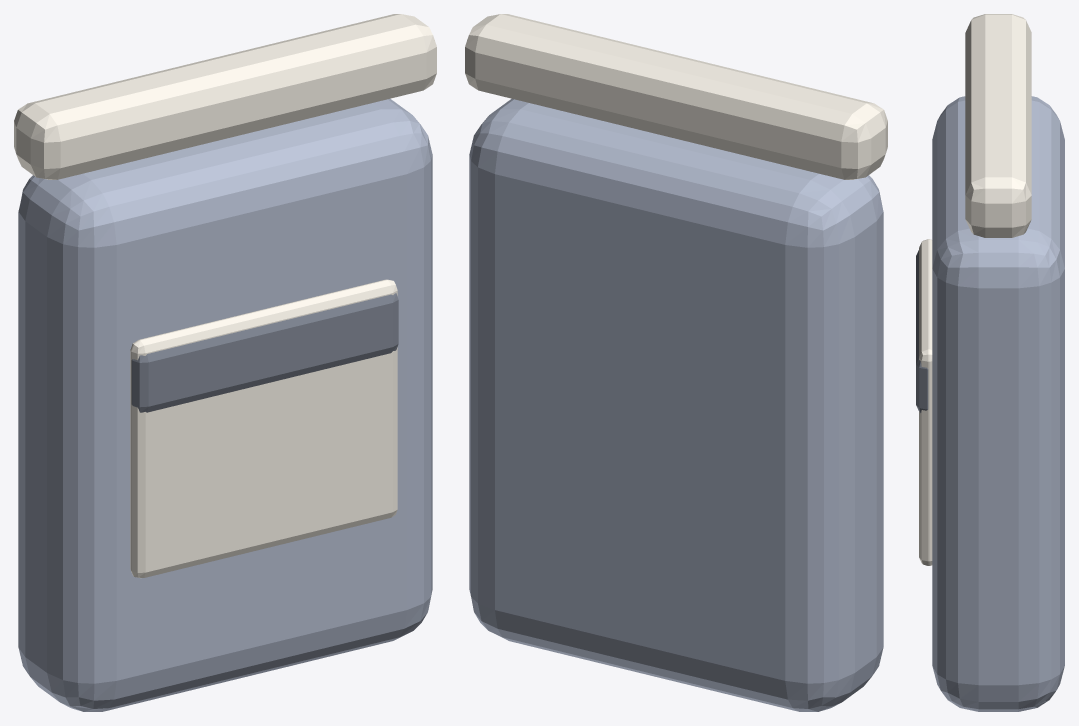
Rendered from pouch.glb.
3 renders of one model, left to right at view 1: azimuth 30°, elevation 25°; view 2: azimuth 150°, elevation 25°; view 3: azimuth 270°, elevation 25°, orthographic. The views are drawn at different scales.
Parts seen in each view (by area): view 1: pouch; view 2: pouch; view 3: pouch.
Boxes of the visible parts, left/top/right/bottom form: pouch: left=14, top=14, right=436, bottom=711; pouch: left=465, top=14, right=887, bottom=711; pouch: left=916, top=14, right=1064, bottom=711.
Size of the model in its own units: 0.64 by 0.91 by 0.2245.
